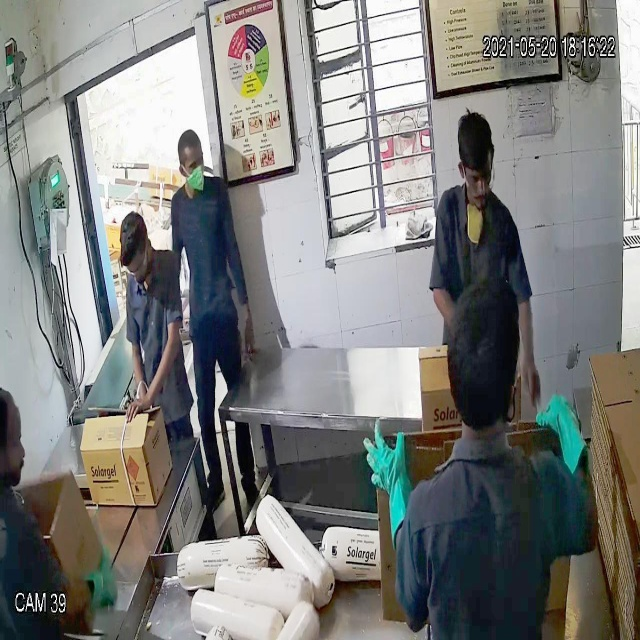Gafas: (451, 156, 504, 202)
